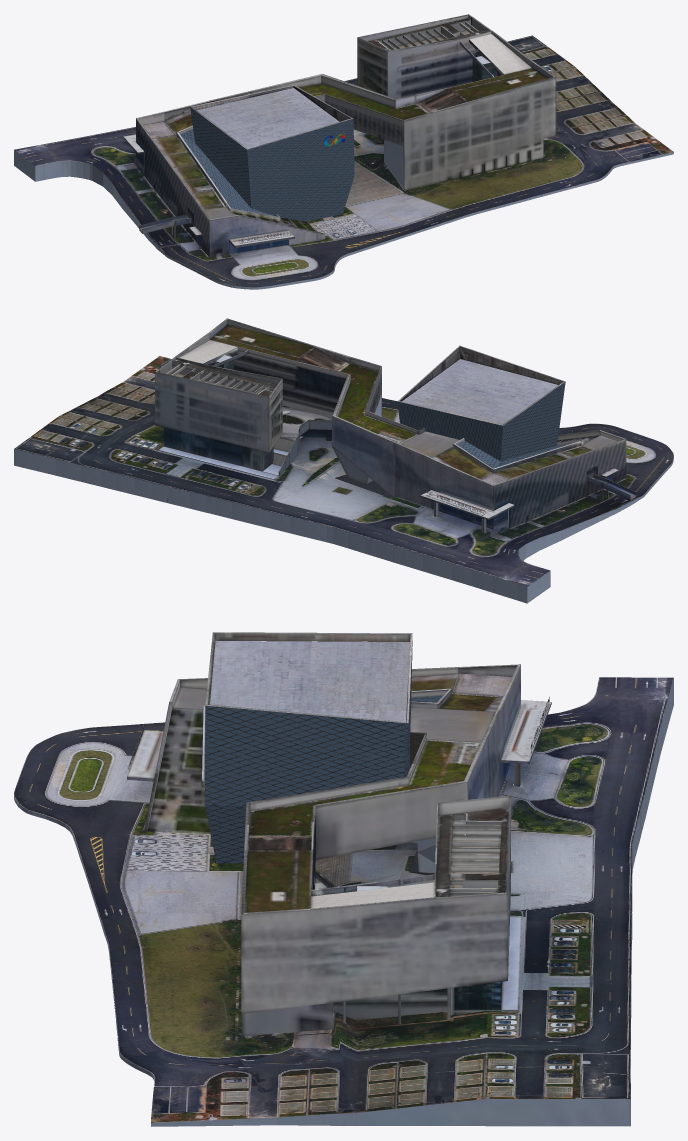
Rendered from nanning_nanA-opt.glb.
The picture shows the model from 3 angles, top to bottom: view 1: azimuth 30°, elevation 25°; view 2: azimuth 150°, elevation 25°; view 3: azimuth 270°, elevation 25°; orthographic projection. The views are drawn at different scales.
Parts seen in each view (by area): view 1: 南A中心\南A中心; view 2: 南A中心\南A中心; view 3: 南A中心\南A中心.
Part boxes in pixels (x1,y1,x2,y2): 南A中心\南A中心: (14,14,673,289); 南A中心\南A中心: (14,318,673,603); 南A中心\南A中心: (14,632,673,1126).
Bounding box in the file's own units: 203 × 37.5 × 134.
Materials: 19 (19 with a texture image).
